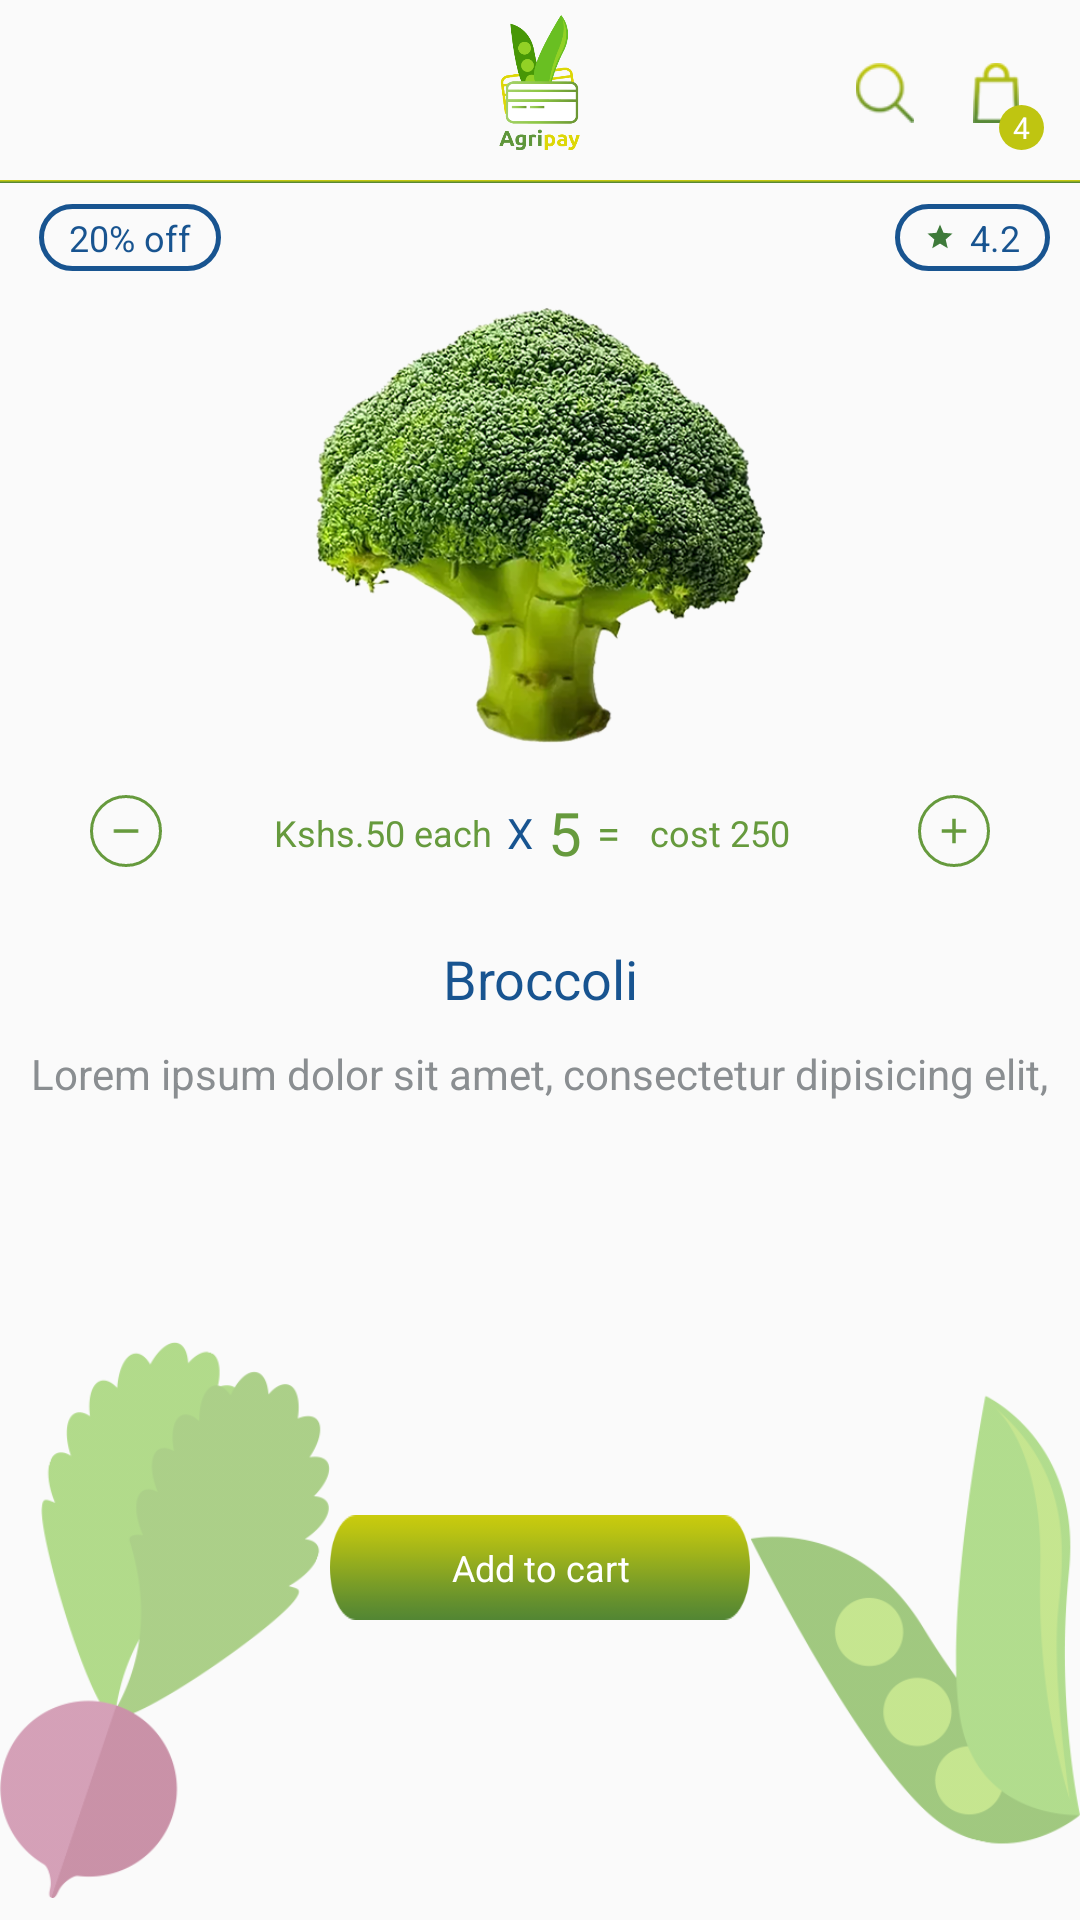

Icons on this 1080×1920 Android screen, each with its box as (x1, y1, x2, y2):
add: (918, 795, 990, 867)
remove: (90, 795, 162, 867)
search: (856, 63, 914, 123)
shop cart: (973, 63, 1026, 123)
